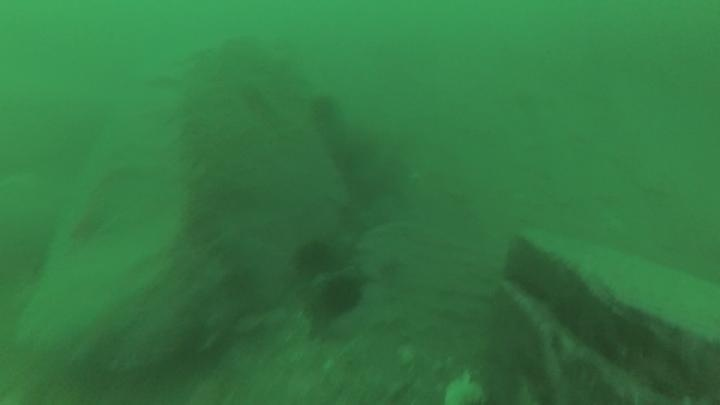echinus: (318, 273, 365, 319), (291, 237, 338, 277)
scallop: (440, 370, 488, 405)
